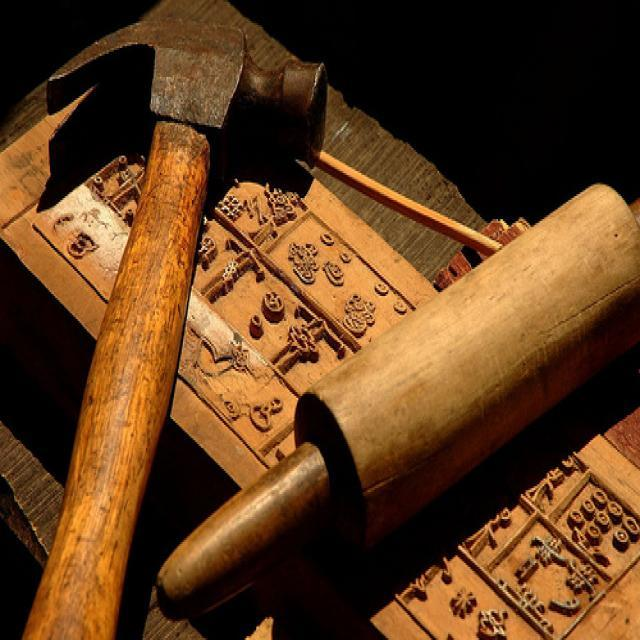hammer: (0, 12, 349, 640)
